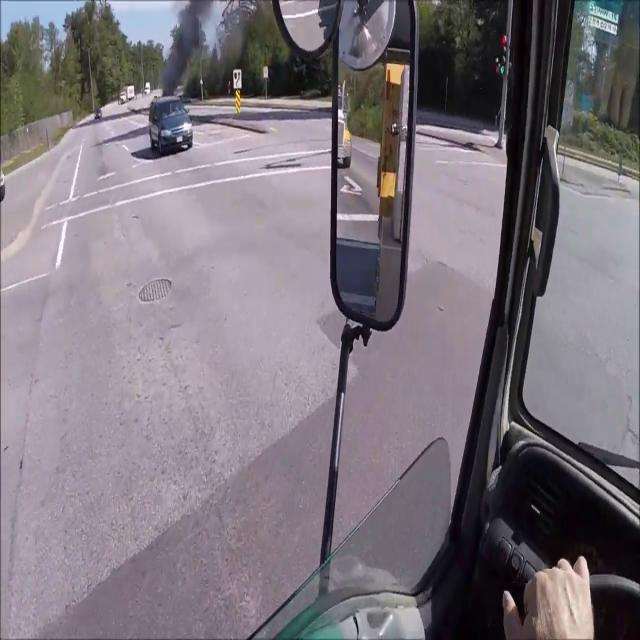Smoke: (158, 0, 214, 94)
